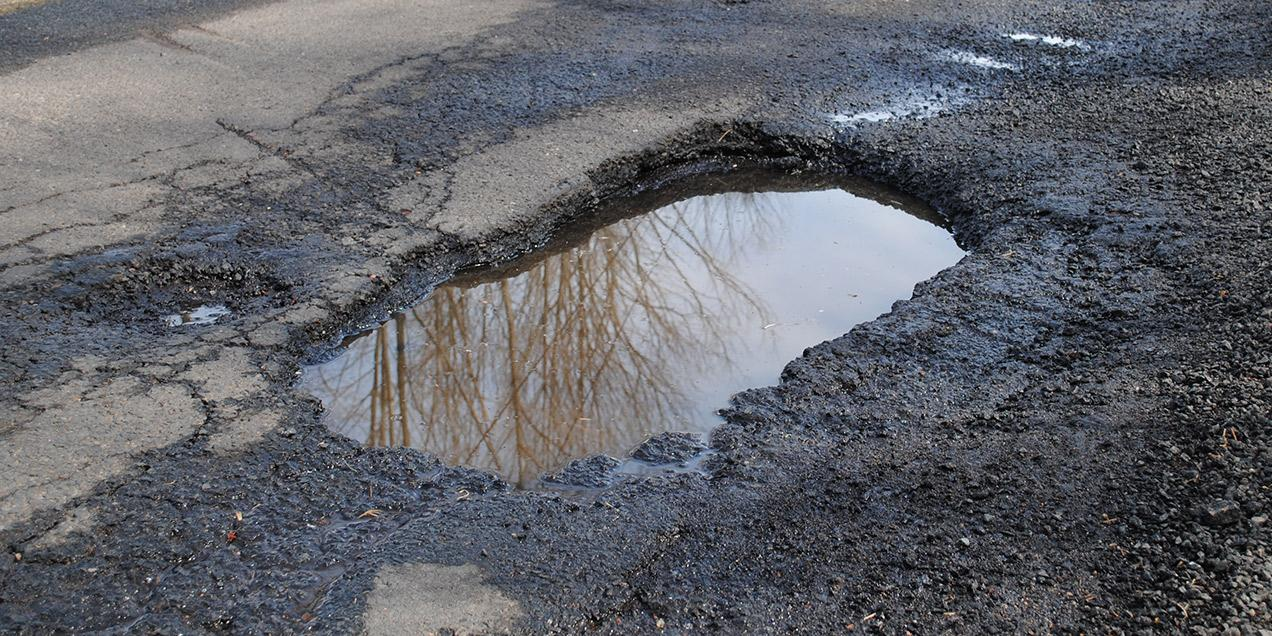pothole: (296, 77, 1133, 482), (19, 182, 259, 422)
